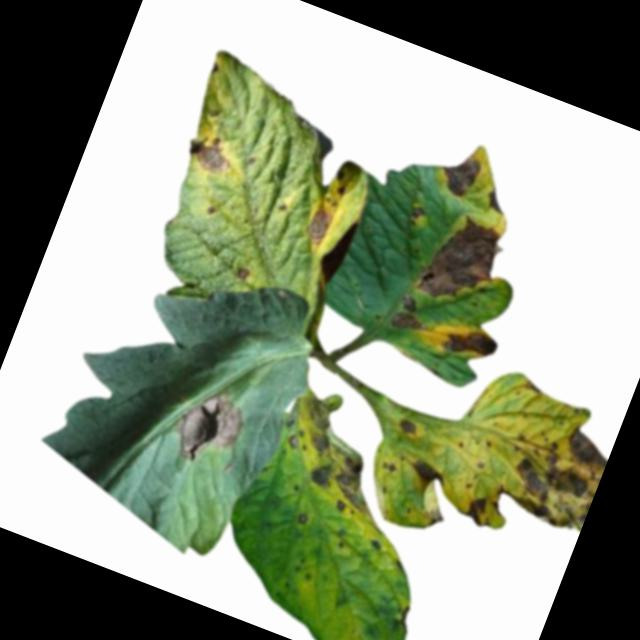Early_blight: (265, 386, 401, 523), (490, 410, 613, 541), (413, 206, 510, 314), (169, 386, 253, 477), (439, 319, 502, 372), (180, 130, 242, 183), (435, 147, 488, 203), (401, 452, 453, 494), (389, 291, 431, 337), (300, 200, 339, 249), (461, 493, 493, 533), (481, 186, 514, 218), (325, 167, 353, 201), (395, 416, 423, 441), (422, 507, 448, 533), (515, 375, 543, 397), (405, 205, 428, 231), (363, 536, 384, 559), (232, 263, 252, 286), (293, 510, 312, 529)
